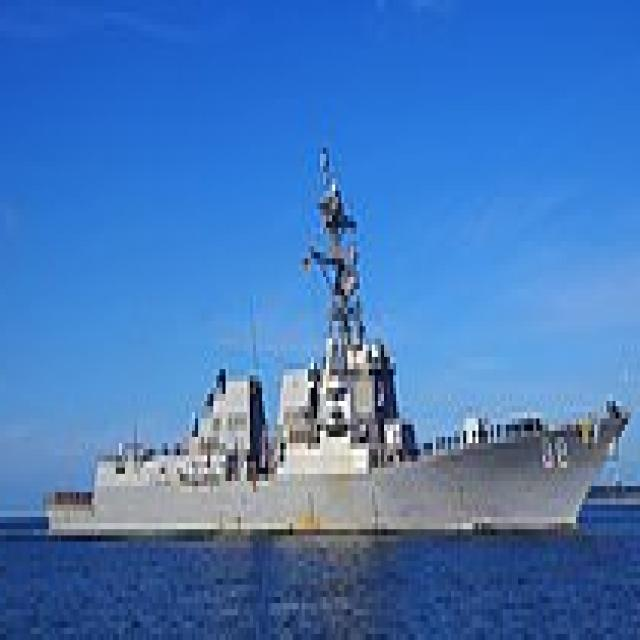Warship: (46, 129, 634, 529)
